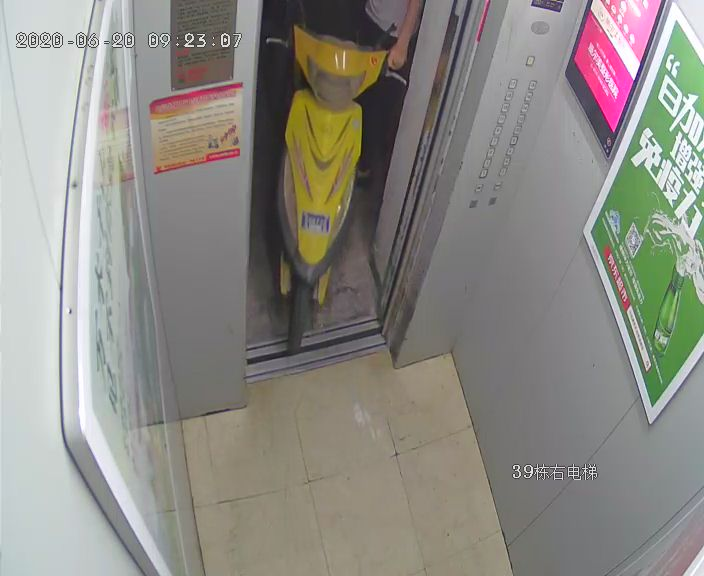Electric-bicycle: (263, 21, 407, 354)
